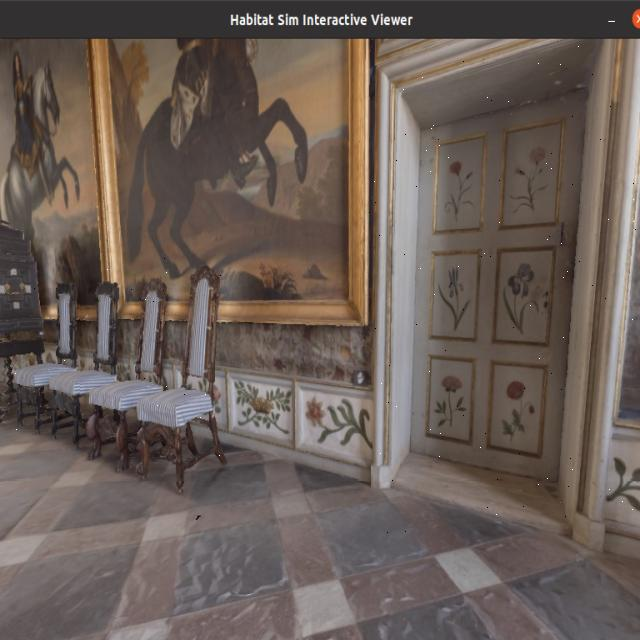chair: (140, 244, 228, 504), (93, 276, 171, 486), (50, 268, 126, 456), (12, 268, 80, 432)
door: (418, 104, 582, 447)
door-frame: (369, 39, 640, 535)
